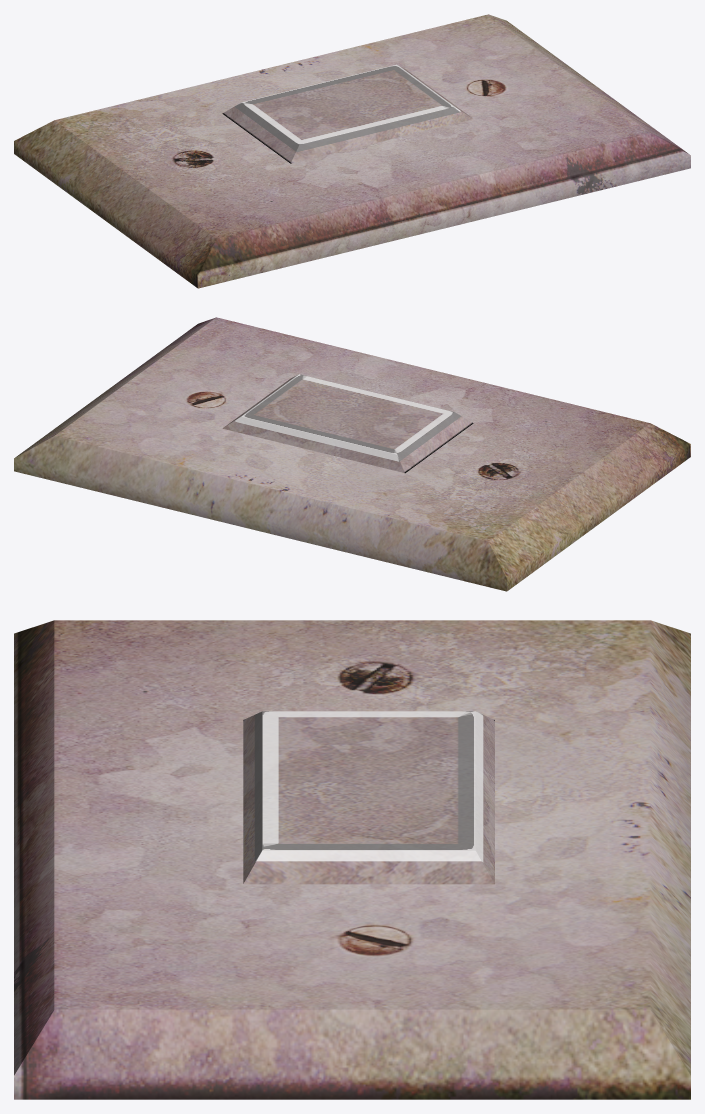
File: Switch_Base.fbx
3 views of the same model, one above another, from view 1: azimuth 30°, elevation 25°; view 2: azimuth 150°, elevation 25°; view 3: azimuth 270°, elevation 25° (orthographic). The views are drawn at different scales.
Parts seen in each view (by area): view 1: pPlane2; view 2: pPlane2; view 3: pPlane2.
Boxes of the visible parts, left/top/right/bottom form: pPlane2: left=14, top=14, right=690, bottom=288; pPlane2: left=14, top=317, right=690, bottom=591; pPlane2: left=14, top=620, right=690, bottom=1099.
Bounding box in the file's own units: 17.37 × 1.79 × 11.24.
